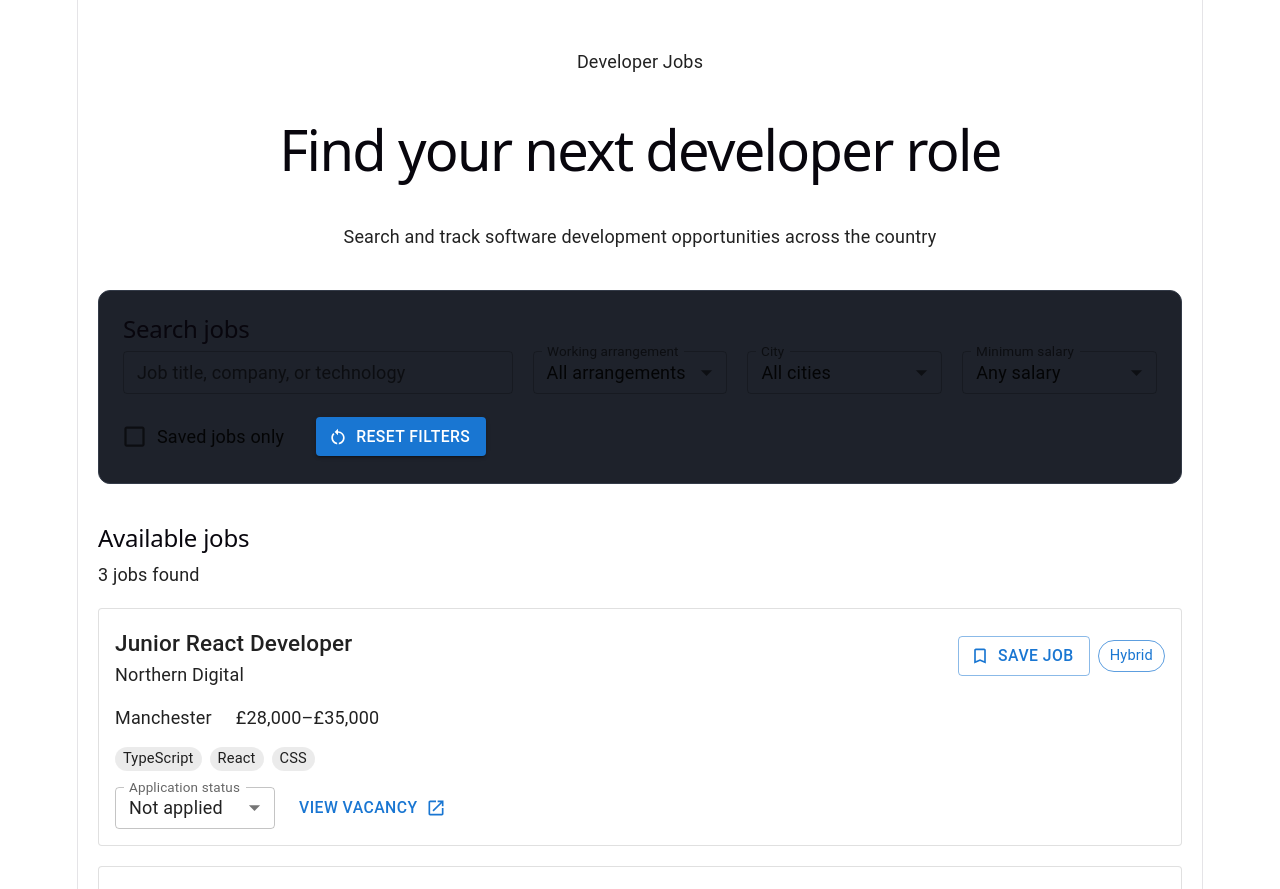
Test: App › filters jobs by city
Check: the text "3 jobs found" is shown, box [98, 564, 200, 584]
Step 1. Click the dropdown named "City" → (796, 372), box [761, 362, 831, 383]
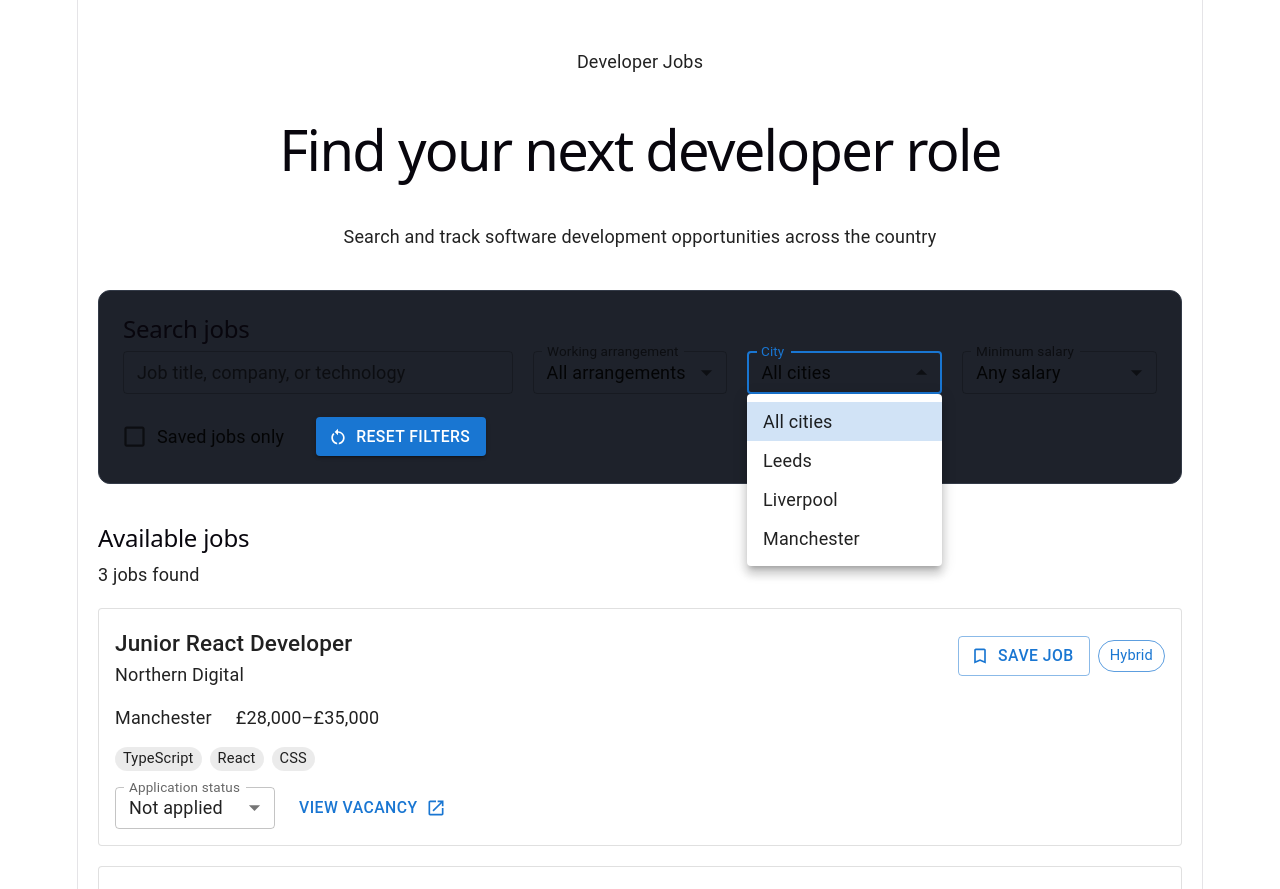
Step 2. Click the option "Manchester" → (811, 538), box [763, 528, 860, 549]
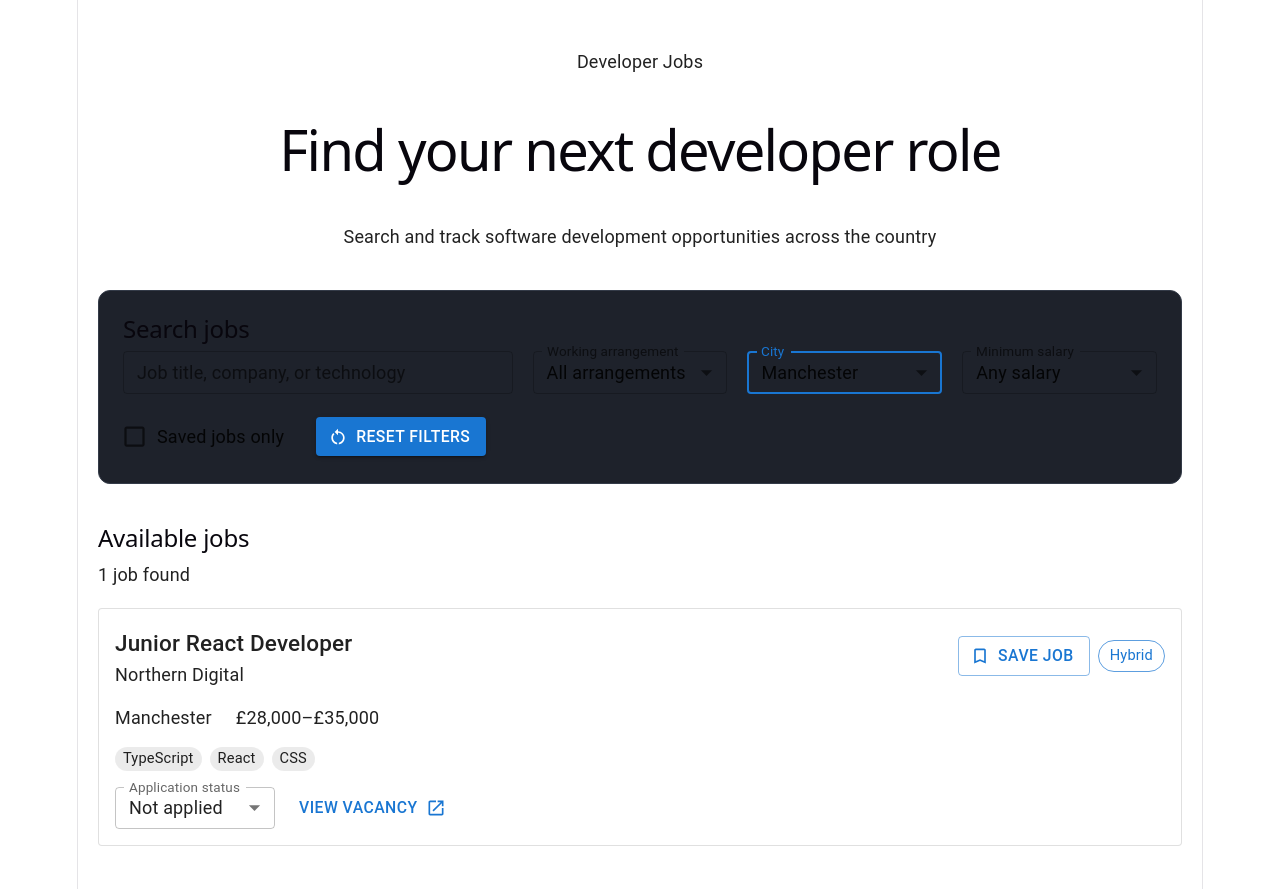
Check: the heading "Junior React Developer" is shown, box [115, 624, 352, 660]
Check: the text "1 job found" is shown, box [98, 564, 190, 584]
